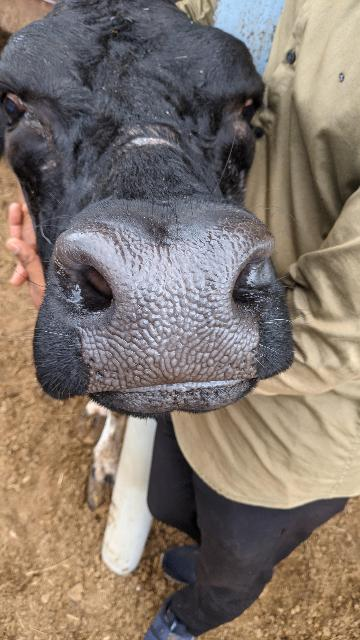Muzzle: (102, 230, 240, 382)
